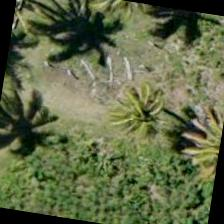Kelapa_Sawit: (95, 59, 198, 162)
